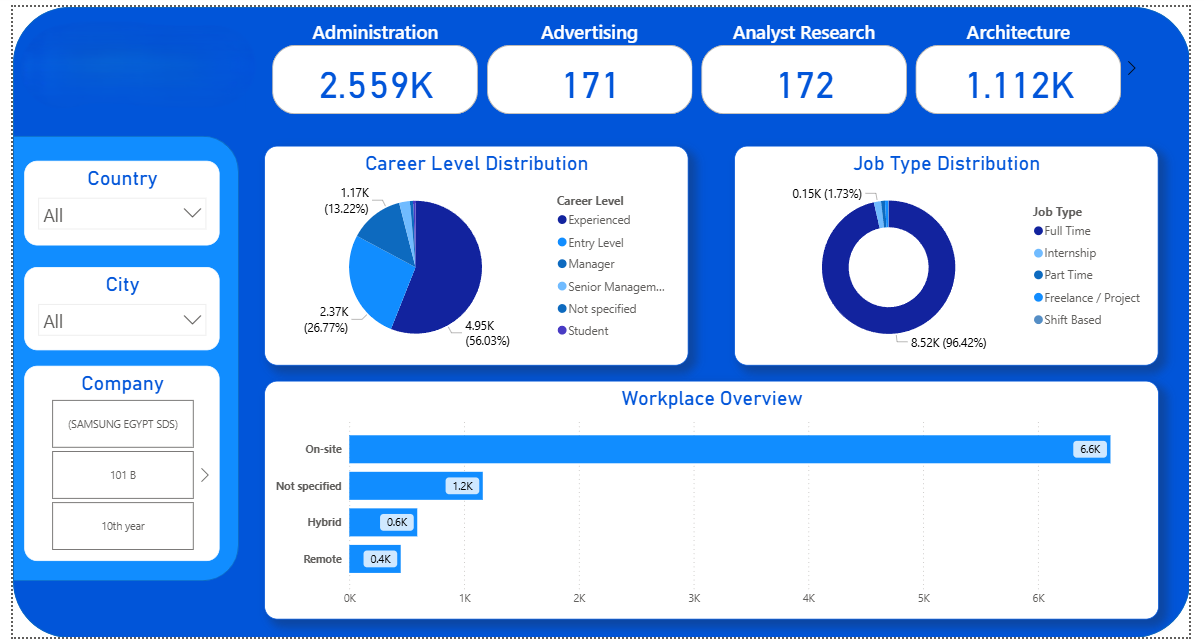

Layout of this report page (visuals, bound fields, positions):
{"tool":"powerbi","page":{"name":"Page 1","canvas":[1345,720],"ordinal":1},"visuals":[{"type":"shape","box":[0,0,1345.3,721],"z":0},{"type":"donutChart","title":"Job Type Distribution","fields":{"Category":["Wuzzuf_data.jobs_type"],"Y":["CountNonNull(Wuzzuf_data.jobs_type)"]},"box":[824.8,158.6,484.5,250.9],"z":1000},{"type":"pieChart","title":"Career Level Distribution","fields":{"Category":["Wuzzuf_data.Career_Level"],"Y":["CountNonNull(Wuzzuf_data.Career_Level)"]},"box":[286.9,158.6,484.5,250.9],"z":1001},{"type":"barChart","title":"Workplace Overview","fields":{"Category":["Wuzzuf_data.workplaces"],"Y":["CountNonNull(Wuzzuf_data.workplaces)"]},"box":[286.9,426.8,1022.3,272.5],"z":1002},{"type":"cardVisual","fields":{"Data":["CountNonNull(Wuzzuf_data.job_category)"],"Rows":["Wuzzuf_data.job_category"]},"box":[271.1,11.5,1022.3,116.8],"z":1003},{"type":"shape","box":[0,147.1,258.1,509],"z":1004},{"type":"slicer","title":"Country","fields":{"Values":["Wuzzuf_data.Country"]},"box":[13,175.9,223.5,96.6],"z":1005},{"type":"slicer","title":"City","fields":{"Values":["Wuzzuf_data.City"]},"box":[13,297,223.5,95.2],"z":1006},{"type":"slicer","title":"Company","fields":{"Values":["Wuzzuf_data.companies"]},"box":[13,409.5,223.5,223.5],"z":1007},{"type":"image","box":[13,11.5,258.1,128.3],"z":1008}]}

Visuals, with their boxes in screenshot pixels (x1, y1, x2, y2), scaled from the page's 1345x720 canvas onto the 1204x644 screenshot:
shape: [0, 0, 1203, 643]
"Job Type Distribution" donutChart: [738, 142, 1172, 366]
"Career Level Distribution" pieChart: [257, 142, 691, 366]
"Workplace Overview" barChart: [257, 382, 1172, 625]
cardVisual - CountNonNull(Wuzzuf_data.job_category) x Wuzzuf_data.job_category: [243, 10, 1158, 115]
shape: [0, 132, 231, 587]
"Country" slicer: [12, 157, 212, 244]
"City" slicer: [12, 266, 212, 351]
"Company" slicer: [12, 366, 212, 566]
image: [12, 10, 243, 125]
